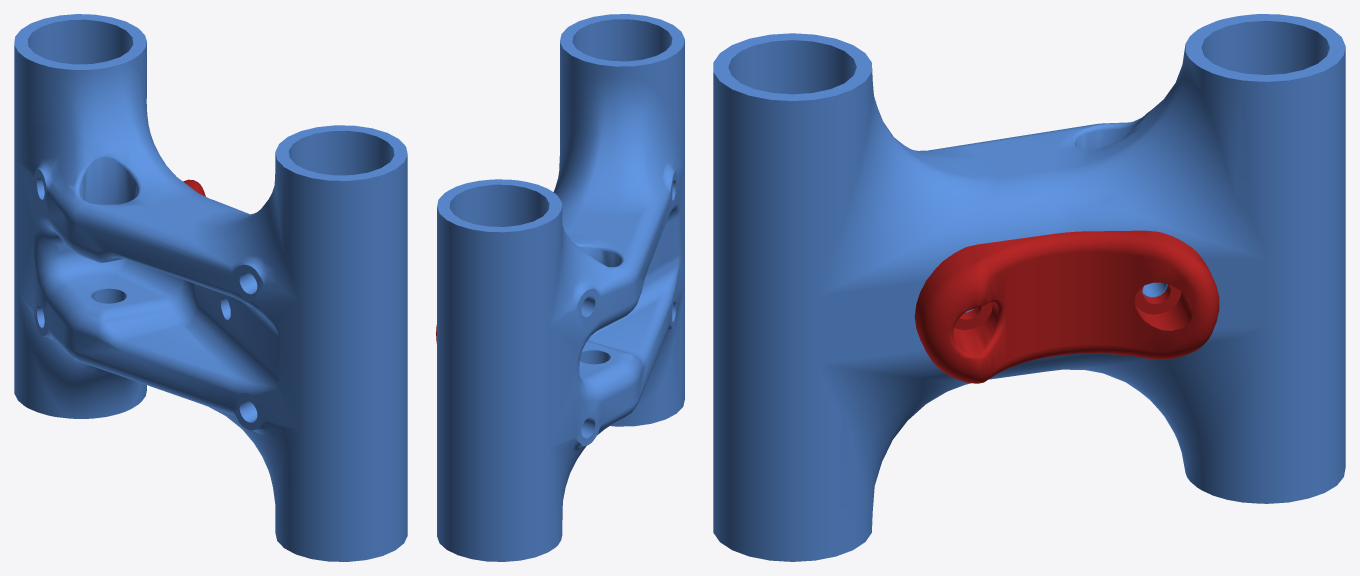
The model's file is left_knee_linkage.obj.
The picture shows the model from 3 angles, left to right: view 1: azimuth 30°, elevation 25°; view 2: azimuth 150°, elevation 25°; view 3: azimuth 270°, elevation 25°; orthographic projection. The views are drawn at different scales.
Visible parts, largest first — view 1: stitch_result_stitch_all; view 2: stitch_result_stitch_all; view 3: stitch_result_stitch_all.
Boxes of the visible parts, x1=… form: stitch_result_stitch_all: x1=14, y1=14, x2=407, y2=561; stitch_result_stitch_all: x1=436, y1=14, x2=684, y2=561; stitch_result_stitch_all: x1=713, y1=14, x2=1345, y2=561.
Size of the model in its own units: 0.0542 by 0.095 by 0.1181.
